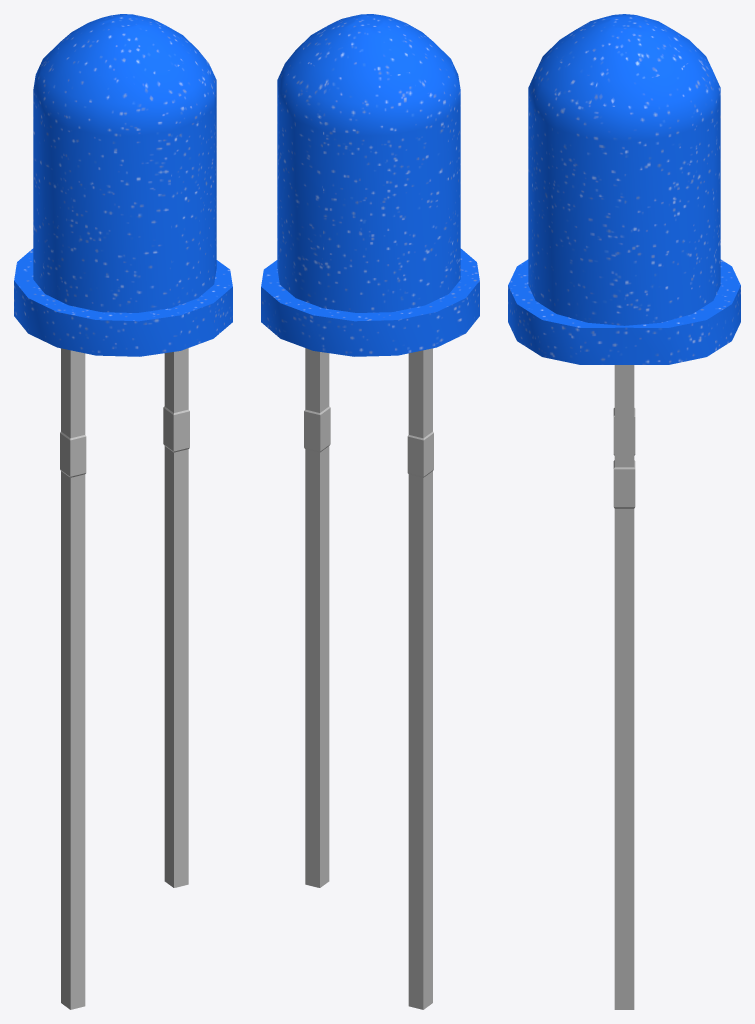
File: matrix-lamp.glb
3 views of the same model, side by side, from view 1: azimuth 30°, elevation 25°; view 2: azimuth 150°, elevation 25°; view 3: azimuth 270°, elevation 25° (orthographic). The views are drawn at different scales.
Visible parts, largest first — view 1: Cylinder_0 - Web, Cylinder_1 - Web; view 2: Cylinder_0 - Web, Cylinder_1 - Web; view 3: Cylinder_0 - Web, Cylinder_1 - Web.
Boxes of the visible parts, x1,y1,x2,y2 form: Cylinder_0 - Web: [14, 14, 232, 356]; Cylinder_1 - Web: [60, 348, 189, 1009]; Cylinder_0 - Web: [261, 14, 479, 356]; Cylinder_1 - Web: [304, 348, 433, 1009]; Cylinder_0 - Web: [508, 14, 740, 364]; Cylinder_1 - Web: [613, 365, 635, 1009].
Bounding box in the file's own units: 0.3899 × 2 × 0.4177.
2 materials, 1 textured.
